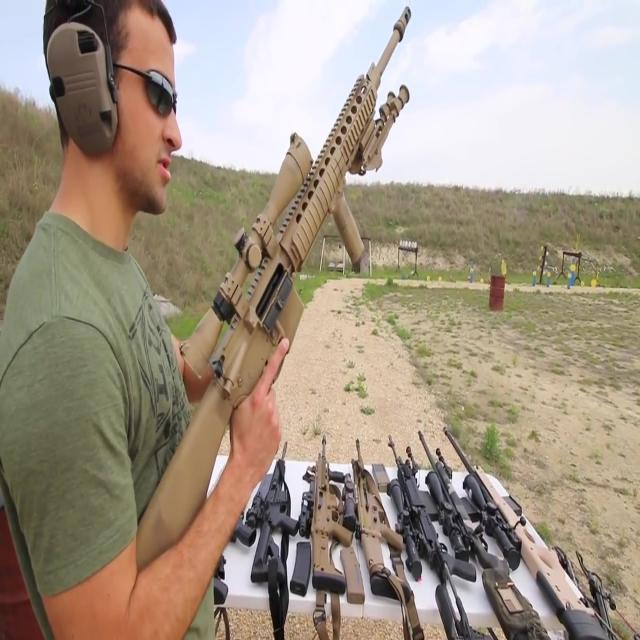Weapon: (130, 6, 422, 640), (173, 368, 607, 640)
